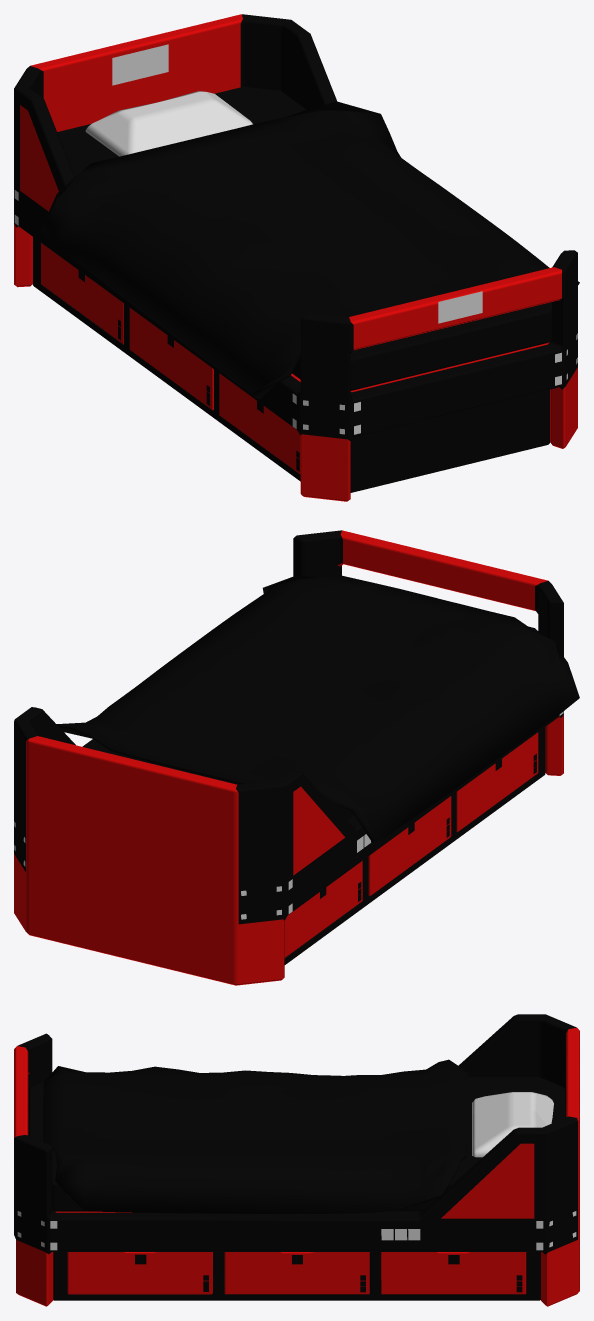
The model's file is bed.glb.
3 renders of one model, top to bottom at view 1: azimuth 30°, elevation 25°; view 2: azimuth 150°, elevation 25°; view 3: azimuth 270°, elevation 25°, orthographic. The views are drawn at different scales.
Parts seen in each view (by area): view 1: bed_sheet, bed_frame, bed_under_frame, bed_matress, bed_pillow, bed_under_storage_5, bed_under_storage_6, bed_under_storage_4, bed_decal_frame; view 2: bed_sheet, bed_frame, bed_under_storage_5, bed_under_storage_6, bed_under_storage_4, bed_under_frame, bed_matress; view 3: bed_sheet, bed_frame, bed_under_storage_2, bed_under_storage_3, bed_under_storage_1, bed_under_frame, bed_matress, bed_pillow, bed_decal_frame.
Part boxes in pixels (box(x1,y1,x2,y2)): bed_sheet: box(40, 101, 579, 399); bed_frame: box(14, 14, 577, 501); bed_under_frame: box(33, 237, 549, 492); bed_matress: box(57, 86, 551, 390); bed_pillow: box(85, 91, 252, 156); bed_under_storage_5: box(129, 308, 213, 410); bed_under_storage_6: box(219, 373, 300, 474); bed_under_storage_4: box(41, 243, 123, 344); bed_decal_frame: box(14, 44, 577, 434); bed_sheet: box(56, 575, 579, 841); bed_frame: box(14, 530, 563, 985); bed_under_storage_5: box(368, 796, 451, 895); bed_under_storage_6: box(456, 732, 538, 831); bed_under_storage_4: box(284, 861, 362, 957); bed_under_frame: box(284, 727, 545, 964); bed_matress: box(82, 626, 539, 819); bed_sheet: box(43, 1059, 468, 1213); bed_frame: box(14, 1014, 579, 1306); bed_under_storage_2: box(224, 1252, 369, 1294); bed_under_storage_3: box(381, 1252, 526, 1294); bed_under_storage_1: box(67, 1252, 212, 1294); bed_under_frame: box(53, 1252, 540, 1300); bed_matress: box(28, 1077, 565, 1211); bed_pillow: box(472, 1092, 553, 1157); bed_decal_frame: box(17, 1211, 576, 1250).
Bounding box in the file's own units: 1.21 × 0.6878 × 2.
